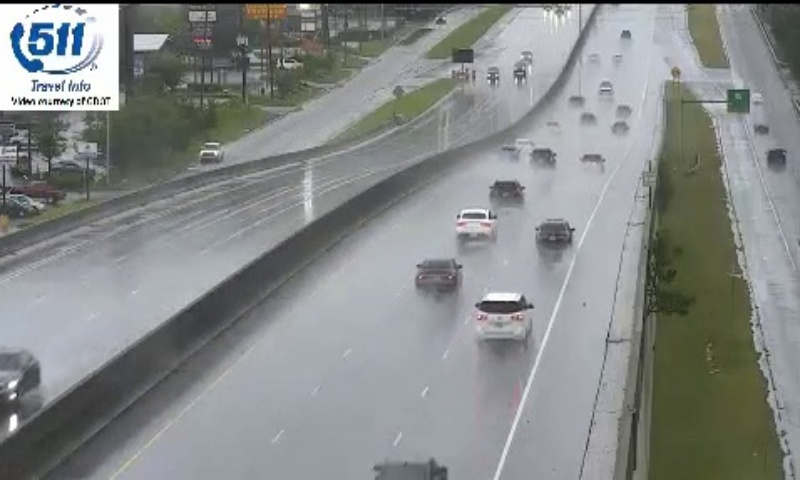car: (475, 293, 532, 340), (416, 259, 461, 291), (456, 209, 497, 241), (490, 179, 522, 207), (537, 220, 570, 245)
